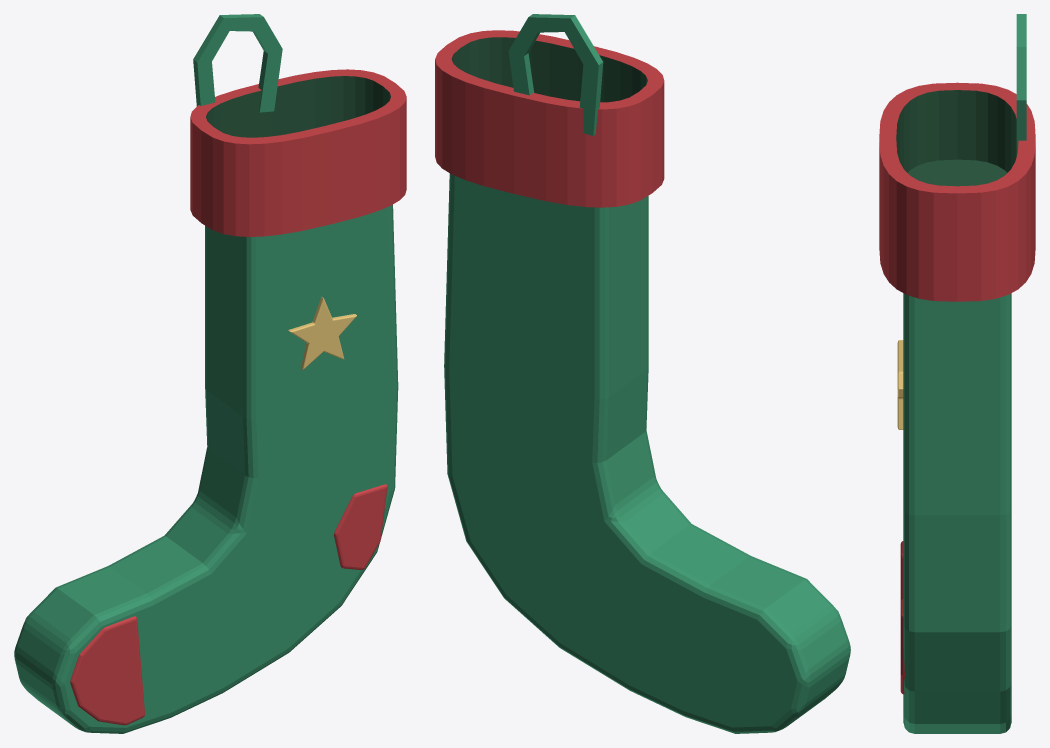
File: christmas_stocking_green_star.glb
3 renders of one model, left to right at view 1: azimuth 30°, elevation 25°; view 2: azimuth 150°, elevation 25°; view 3: azimuth 270°, elevation 25°, orthographic. The views are drawn at different scales.
Visible parts, largest first — view 1: GreenStocking_Left_Pointing_Boot, GreenStocking_Open_Cuff, GreenStocking_Contrasting_Toe, GreenStocking_Attached_Hanging_Loop, GreenStocking_Contrasting_Heel, GreenStocking_Stitched_Star; view 2: GreenStocking_Left_Pointing_Boot, GreenStocking_Open_Cuff, GreenStocking_Attached_Hanging_Loop; view 3: GreenStocking_Left_Pointing_Boot, GreenStocking_Open_Cuff, GreenStocking_Recessed_Interior, GreenStocking_Attached_Hanging_Loop, GreenStocking_Stitched_Star, GreenStocking_Contrasting_Heel.
Boxes of the visible parts, x1,y1,x2,y2 form: GreenStocking_Left_Pointing_Boot: (14, 204, 398, 733); GreenStocking_Open_Cuff: (190, 69, 406, 236); GreenStocking_Contrasting_Toe: (70, 616, 144, 725); GreenStocking_Attached_Hanging_Loop: (193, 14, 282, 112); GreenStocking_Contrasting_Heel: (334, 484, 387, 569); GreenStocking_Stitched_Star: (288, 297, 356, 369); GreenStocking_Left_Pointing_Boot: (444, 173, 850, 733); GreenStocking_Open_Cuff: (435, 30, 664, 207); GreenStocking_Attached_Hanging_Loop: (508, 14, 603, 135); GreenStocking_Left_Pointing_Boot: (903, 293, 1011, 733); GreenStocking_Open_Cuff: (879, 82, 1035, 301); GreenStocking_Recessed_Interior: (908, 159, 1006, 186); GreenStocking_Attached_Hanging_Loop: (1016, 14, 1026, 155); GreenStocking_Stitched_Star: (897, 340, 903, 429); GreenStocking_Contrasting_Heel: (900, 599, 905, 694).
Bounding box in the file's own units: 0.3038 × 0.52 × 0.0975.
